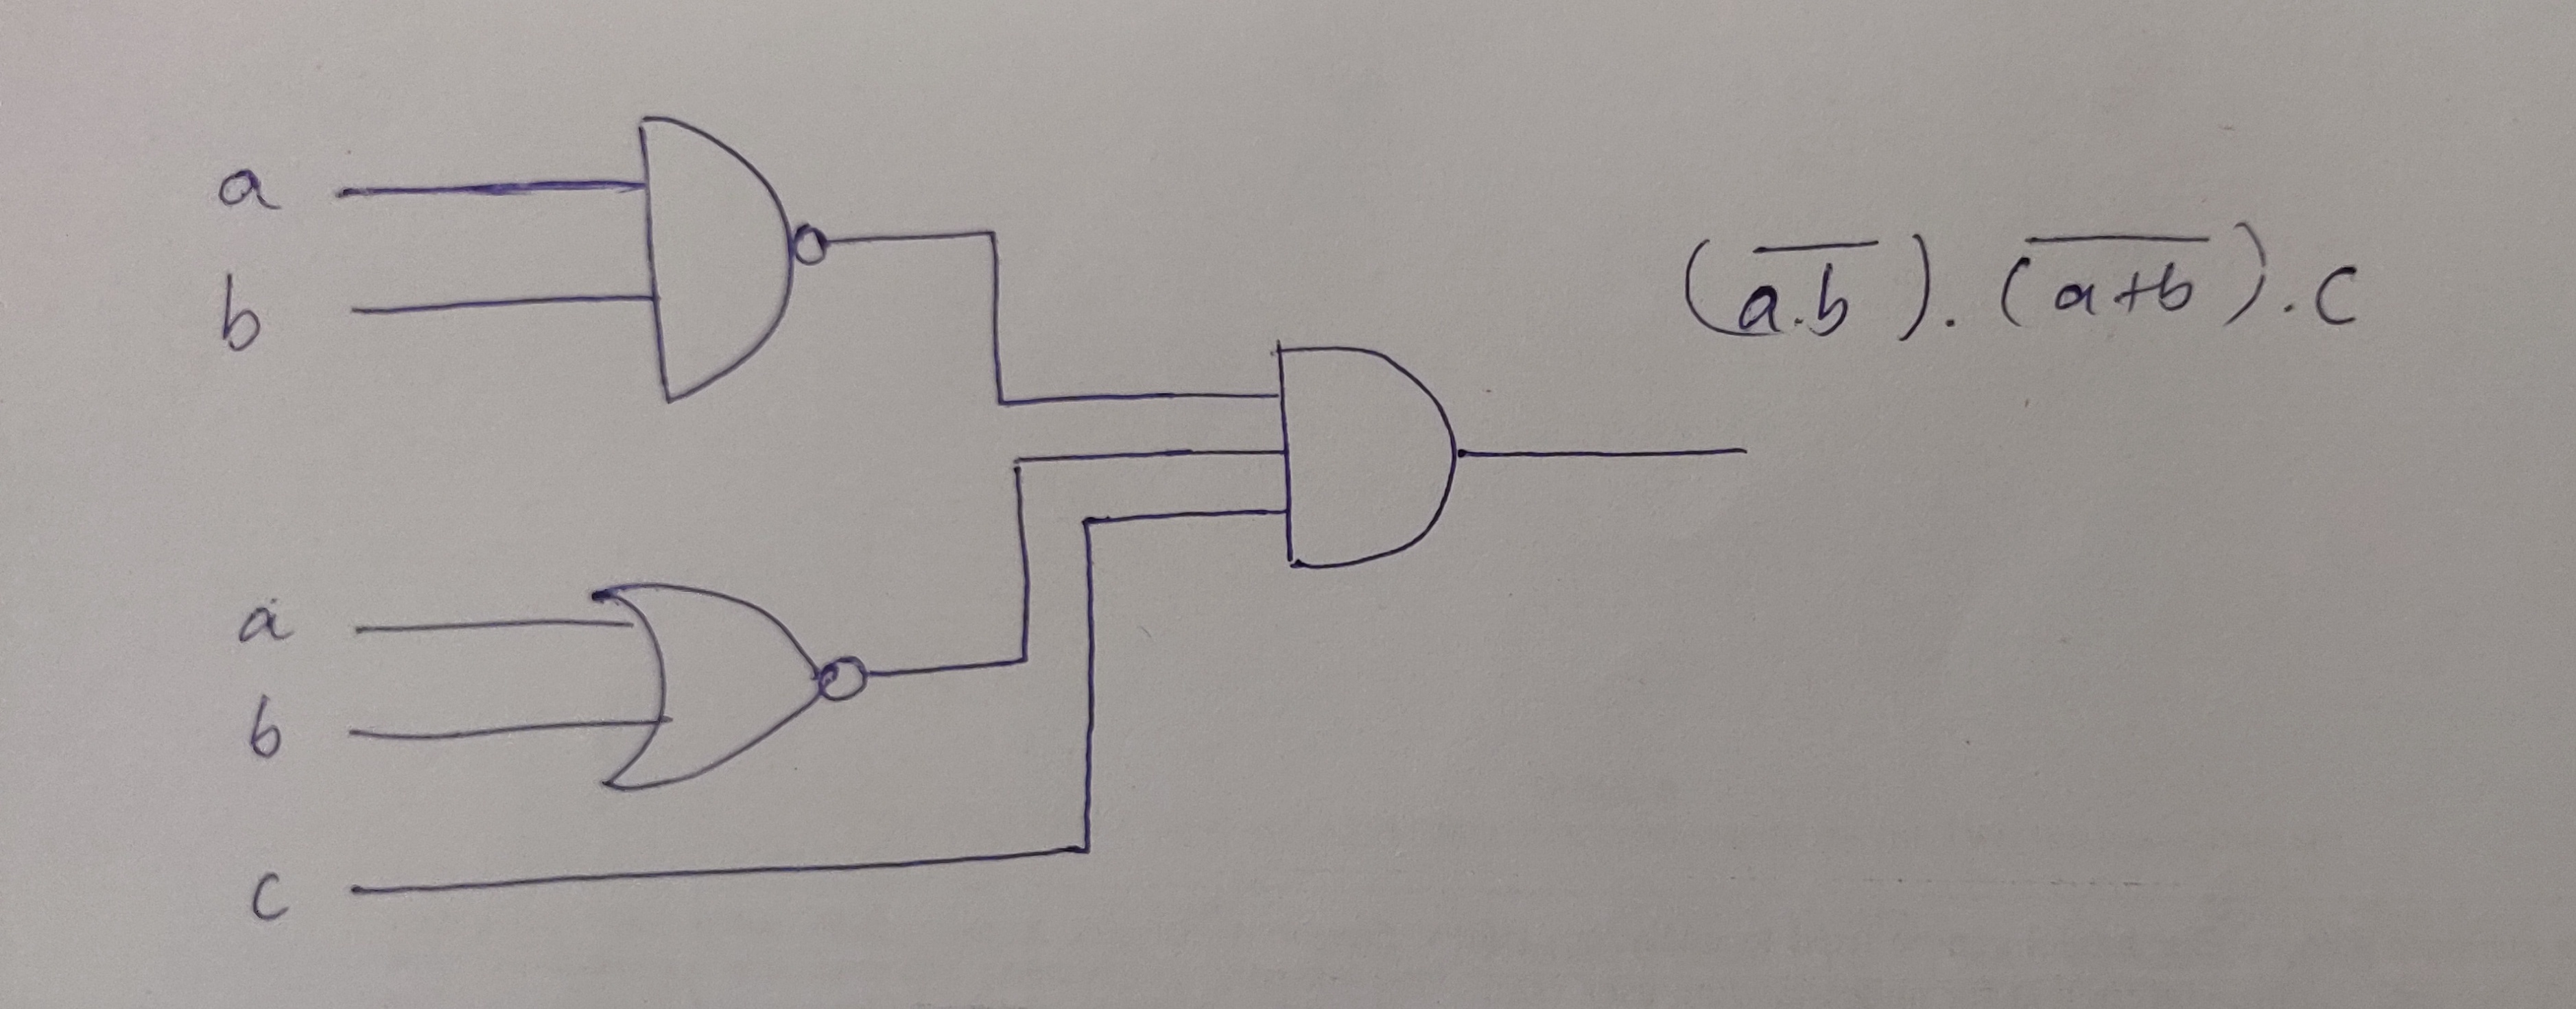and: (1252, 309, 1493, 610)
nand: (608, 90, 846, 422)
nor: (585, 544, 892, 828)
